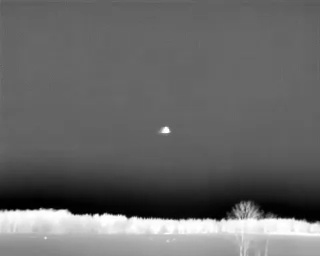BIRD: (156, 122, 174, 138)
